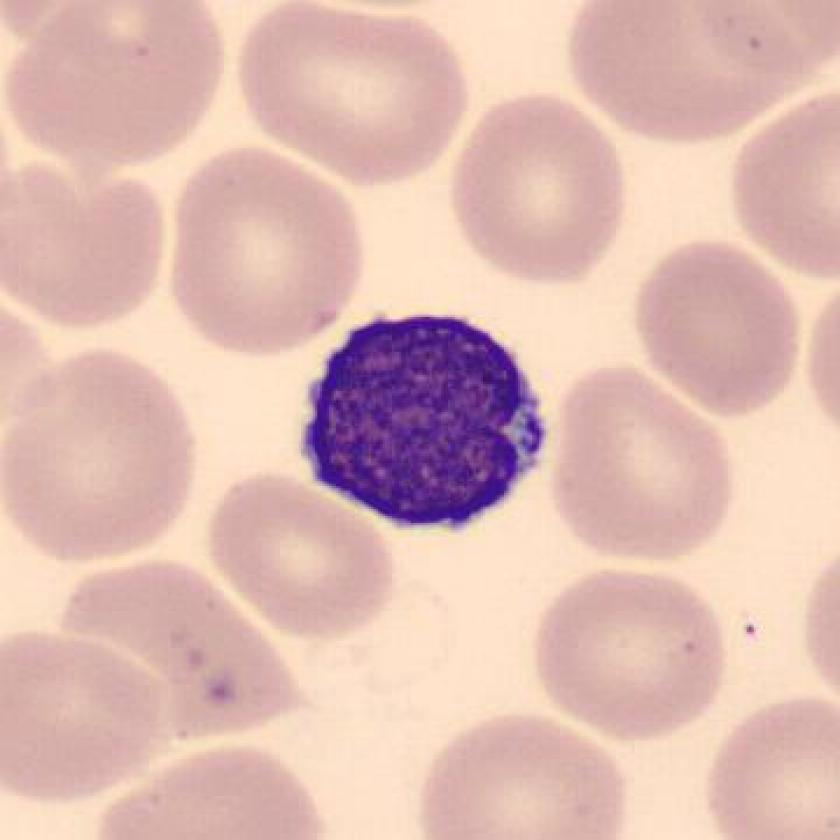lymphocyte: (291, 300, 564, 550)
